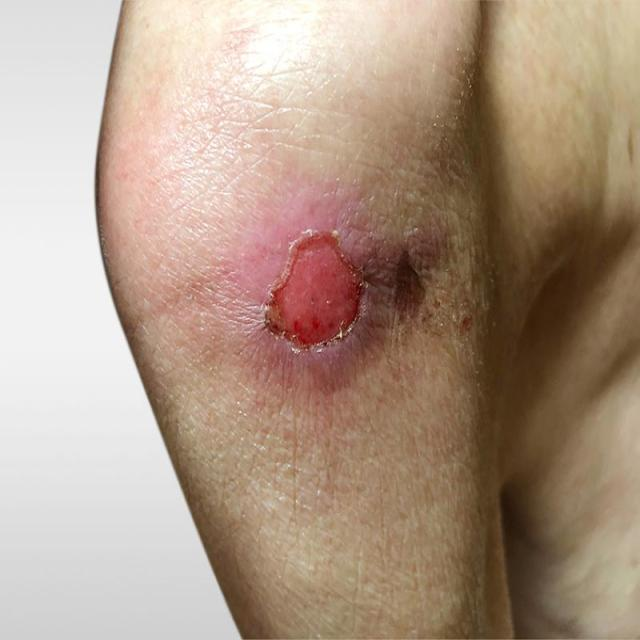stage-2: (265, 233, 362, 348)
